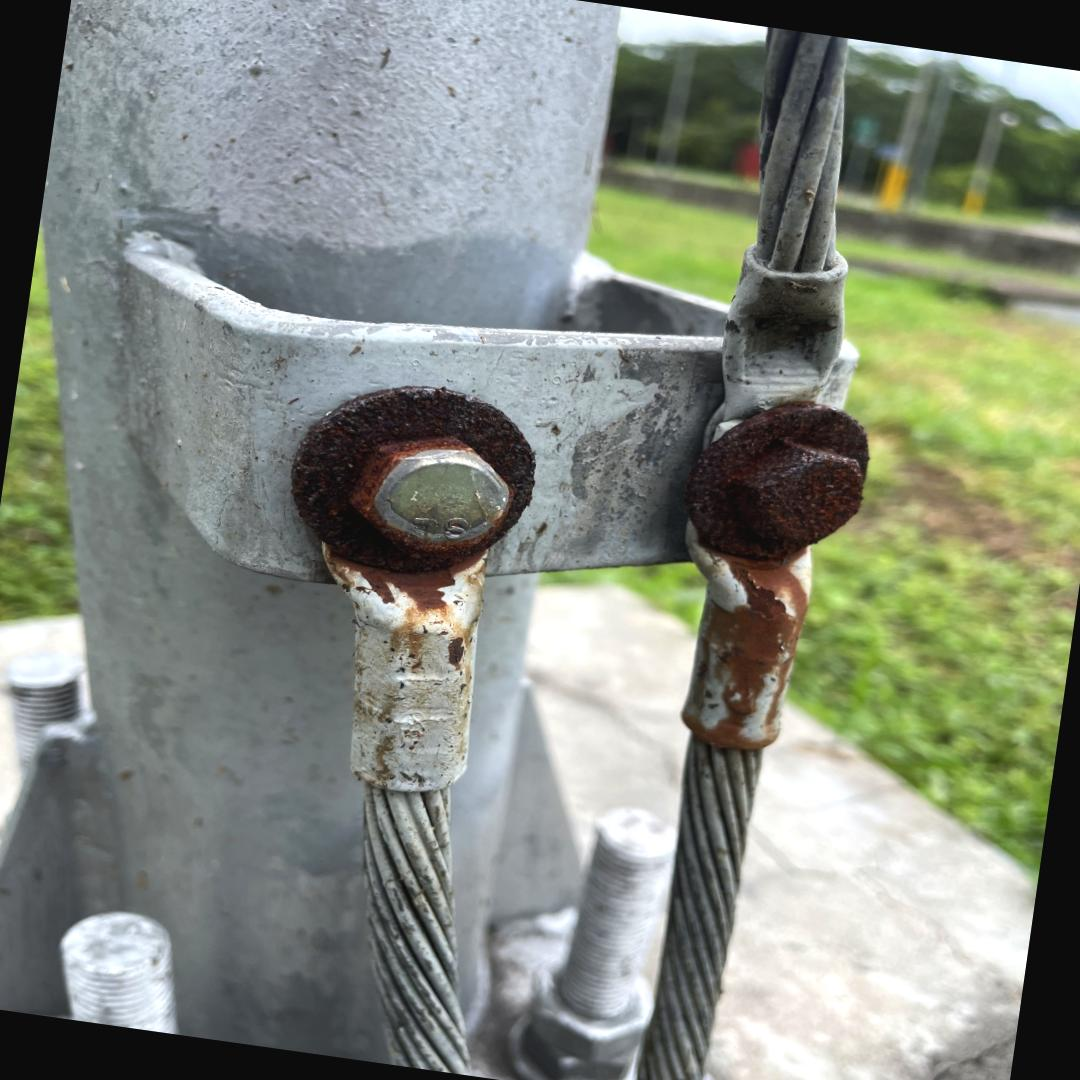Metal: (0, 0, 869, 1080)
Metal corroido: (639, 400, 869, 1080), (292, 390, 533, 791)
Tornillo sin corrosion: (373, 451, 505, 538)
